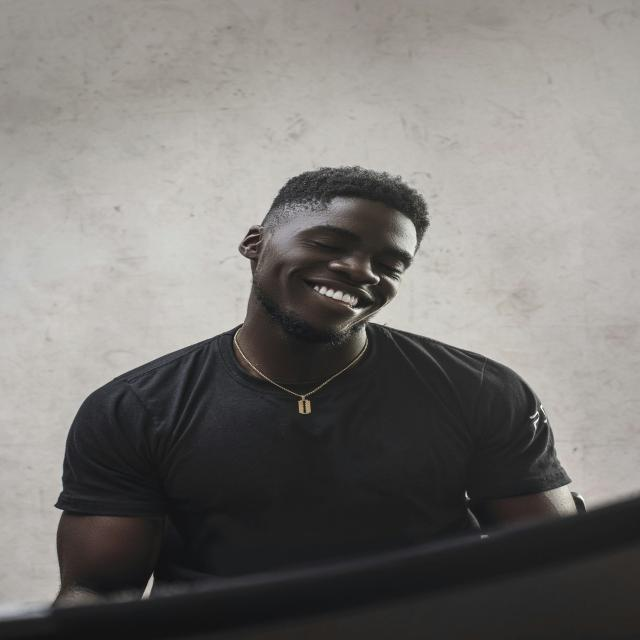sem_oculos: (239, 232, 425, 272)
